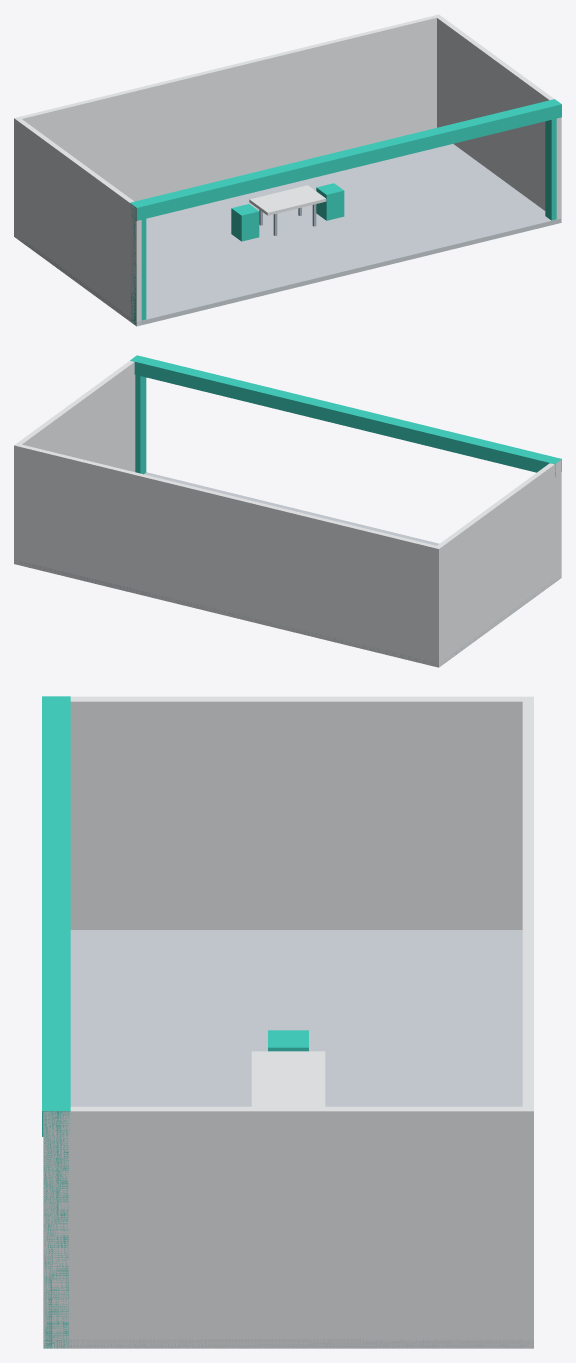
3 views of the same model, one above another, from view 1: azimuth 30°, elevation 25°; view 2: azimuth 150°, elevation 25°; view 3: azimuth 270°, elevation 25° (orthographic). The views are drawn at different scales.
Visible parts, largest first — view 1: Exhibition Booth Concept; view 2: Exhibition Booth Concept; view 3: Exhibition Booth Concept.
Boxes of the visible parts, x1,y1,x2,y2 form: Exhibition Booth Concept: (14, 14, 561, 326); Exhibition Booth Concept: (14, 355, 561, 667); Exhibition Booth Concept: (42, 696, 533, 1348).
Bounding box in the file's own units: 12 × 3.2 × 6.02.
